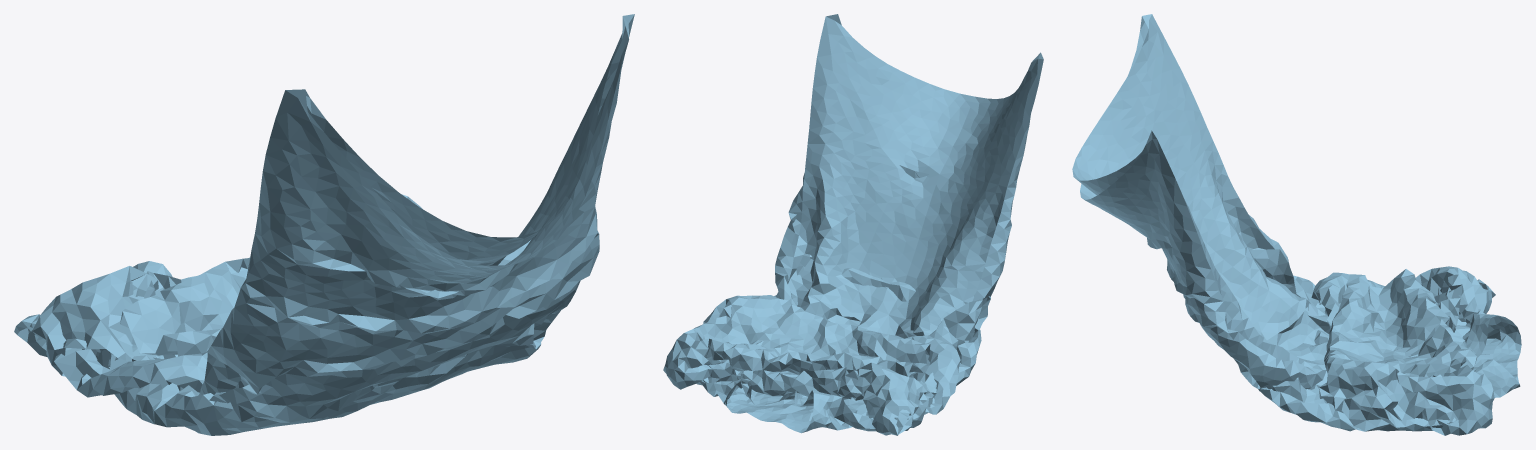
Rendered from frame_07.glb.
3 renders of one model, left to right at view 1: azimuth 30°, elevation 25°; view 2: azimuth 150°, elevation 25°; view 3: azimuth 270°, elevation 25°, orthographic. The views are drawn at different scales.
Parts seen in each view (by area): view 1: frame_07.obj; view 2: frame_07.obj; view 3: frame_07.obj.
Boxes of the visible parts, x1,y1,x2,y2 form: frame_07.obj: [14, 14, 634, 435]; frame_07.obj: [663, 14, 1043, 435]; frame_07.obj: [1072, 14, 1521, 435].
Bounding box in the file's own units: 0.9356 × 0.983 × 1.31.
